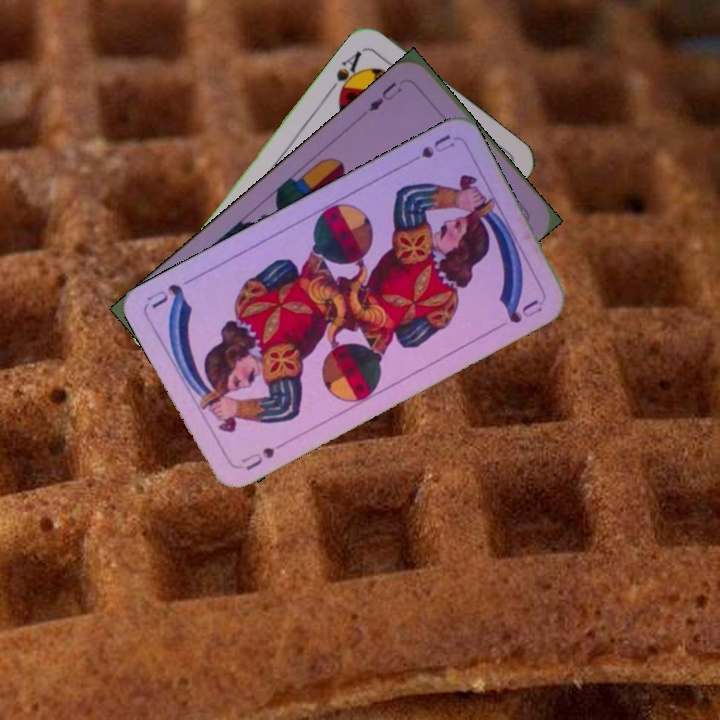EU: (364, 78, 405, 114)
SA: (324, 46, 366, 102)
SU: (400, 130, 457, 168), (237, 437, 289, 474)
